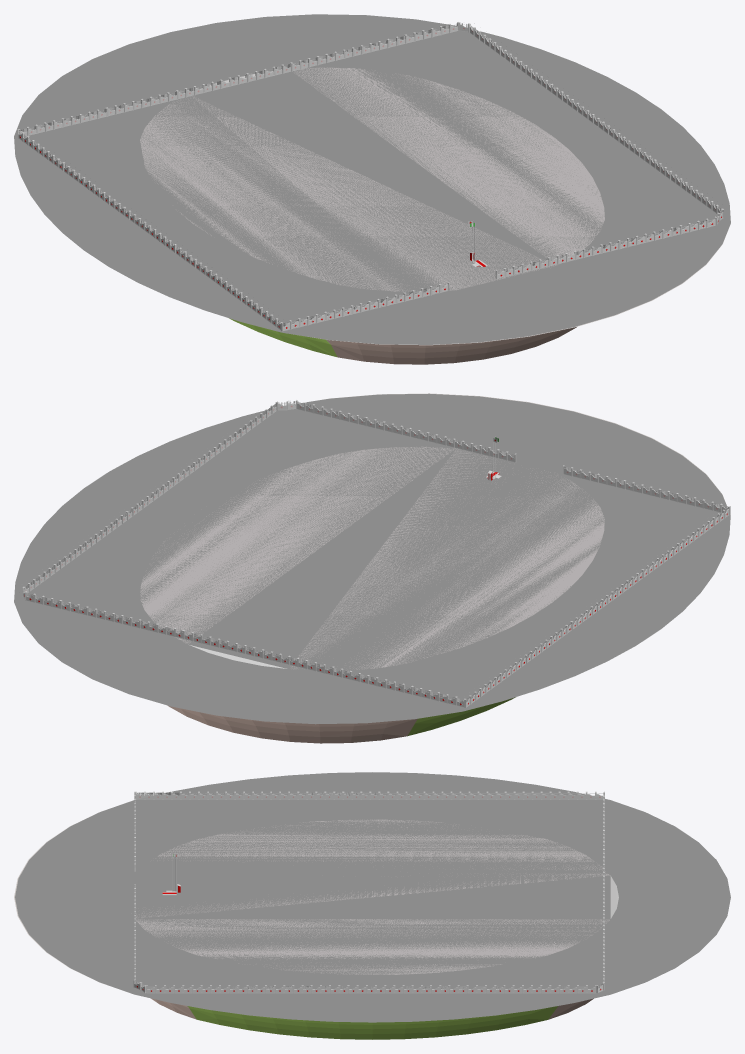
3 views of the same model, one above another, from view 1: azimuth 30°, elevation 25°; view 2: azimuth 150°, elevation 25°; view 3: azimuth 270°, elevation 25° (orthographic). The views are drawn at different scales.
Size of the model in its own units: 7098 by 1350 by 8589.
